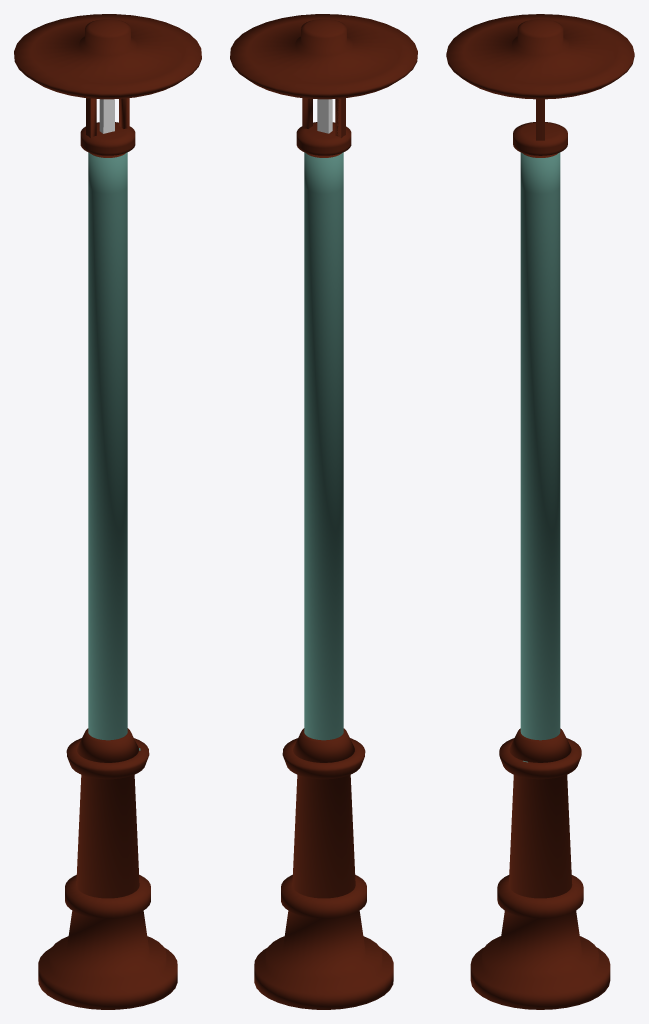
Rendered from street lamp.fbx.
3 views of the same model, side by side, from view 1: azimuth 30°, elevation 25°; view 2: azimuth 150°, elevation 25°; view 3: azimuth 270°, elevation 25° (orthographic).
Parts seen in each view (by area): view 1: Cylinder, Cube; view 2: Cylinder, Cube; view 3: Cylinder.
Part boxes in pixels (x1,y1,x2,y2): Cylinder: (14,14,201,1009); Cube: (99,99,114,133); Cylinder: (230,14,417,1009); Cube: (317,99,332,133); Cylinder: (446,14,634,1009).
Bounding box in the file's own units: 79.24 × 444 × 79.24.
